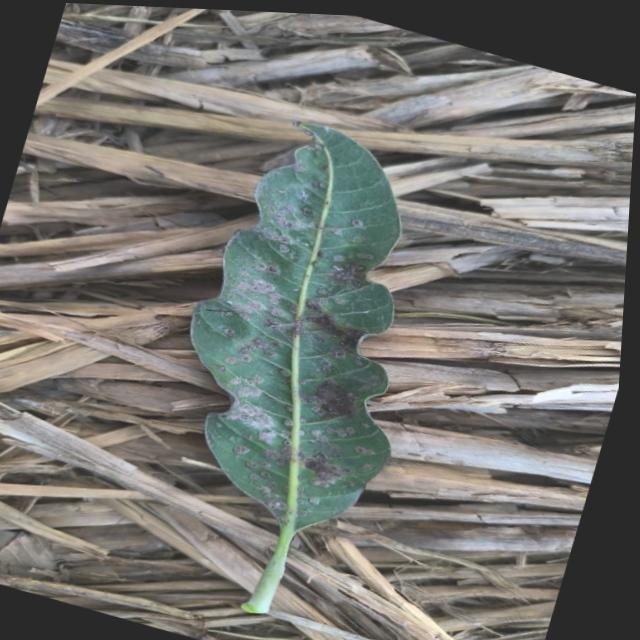gall midge: (226, 257, 304, 351), (227, 378, 295, 443)
